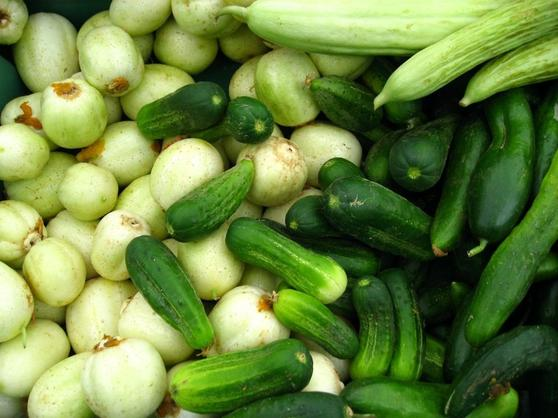cucumber: (123, 235, 226, 353), (442, 323, 557, 418), (321, 176, 444, 262), (469, 99, 535, 259), (171, 344, 315, 412), (163, 159, 259, 232), (269, 290, 362, 363)
